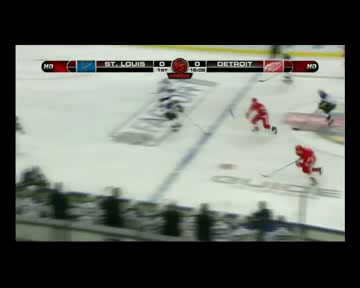normal: (239, 93, 287, 140), (287, 137, 327, 186)
